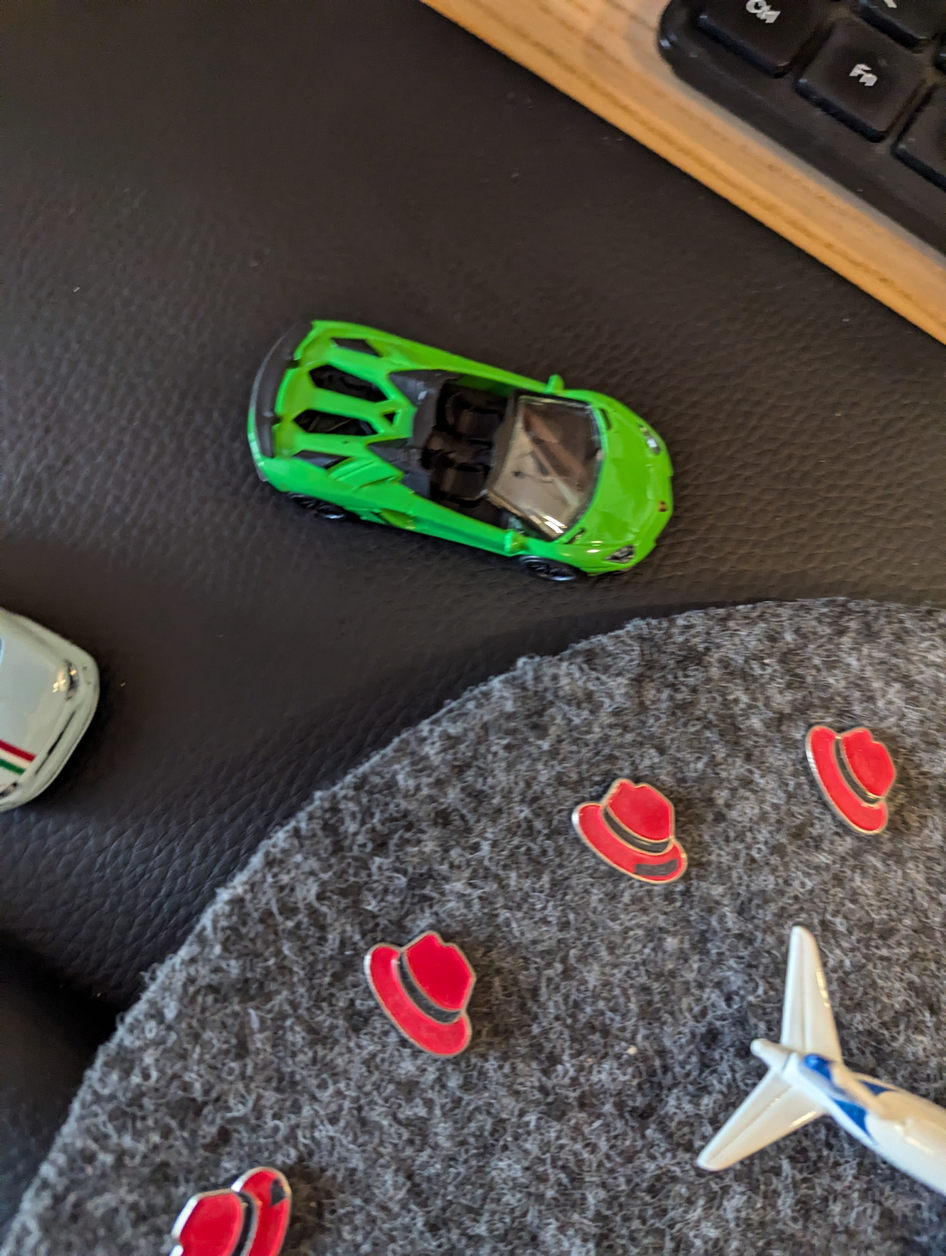Car: (199, 294, 684, 590)
Red-Hat: (341, 909, 501, 1073), (562, 759, 712, 912), (145, 1147, 333, 1256), (795, 707, 928, 842)
Scratch: (249, 1170, 311, 1216), (624, 852, 688, 882)
